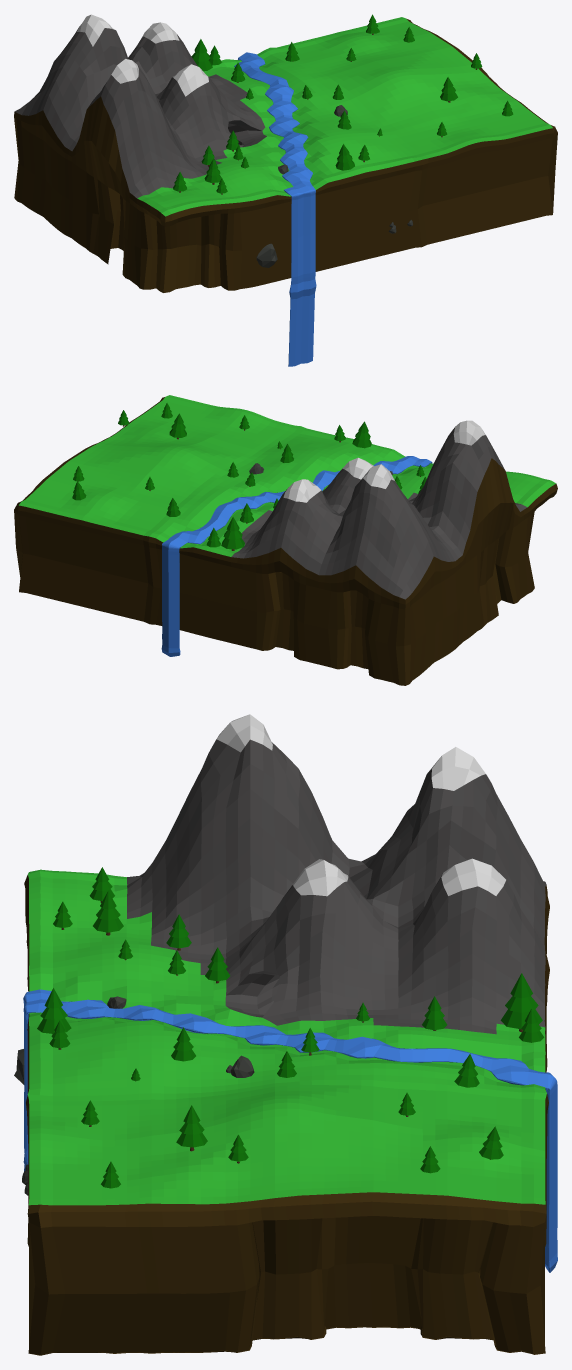
The model's file is terrain.fbx.
3 renders of one model, top to bottom at view 1: azimuth 30°, elevation 25°; view 2: azimuth 150°, elevation 25°; view 3: azimuth 270°, elevation 25°, orthographic. The views are drawn at different scales.
Visible parts, largest first — view 1: Plane; view 2: Plane, Cone.009; view 3: Plane, Cone.009, Cone.015, Cone.022, Cone.001.
Part boxes in pixels (box(x1,y1,x2,y2)): Plane: box(14, 14, 557, 366); Plane: box(14, 395, 557, 685); Cone.009: box(221, 517, 244, 550); Plane: box(23, 714, 557, 1355); Cone.009: box(500, 973, 542, 1032); Cone.015: box(37, 988, 71, 1034); Cone.022: box(176, 1105, 207, 1151); Cone.001: box(93, 891, 123, 935).
Bounding box in the file's own units: 1234 × 837 × 841.
